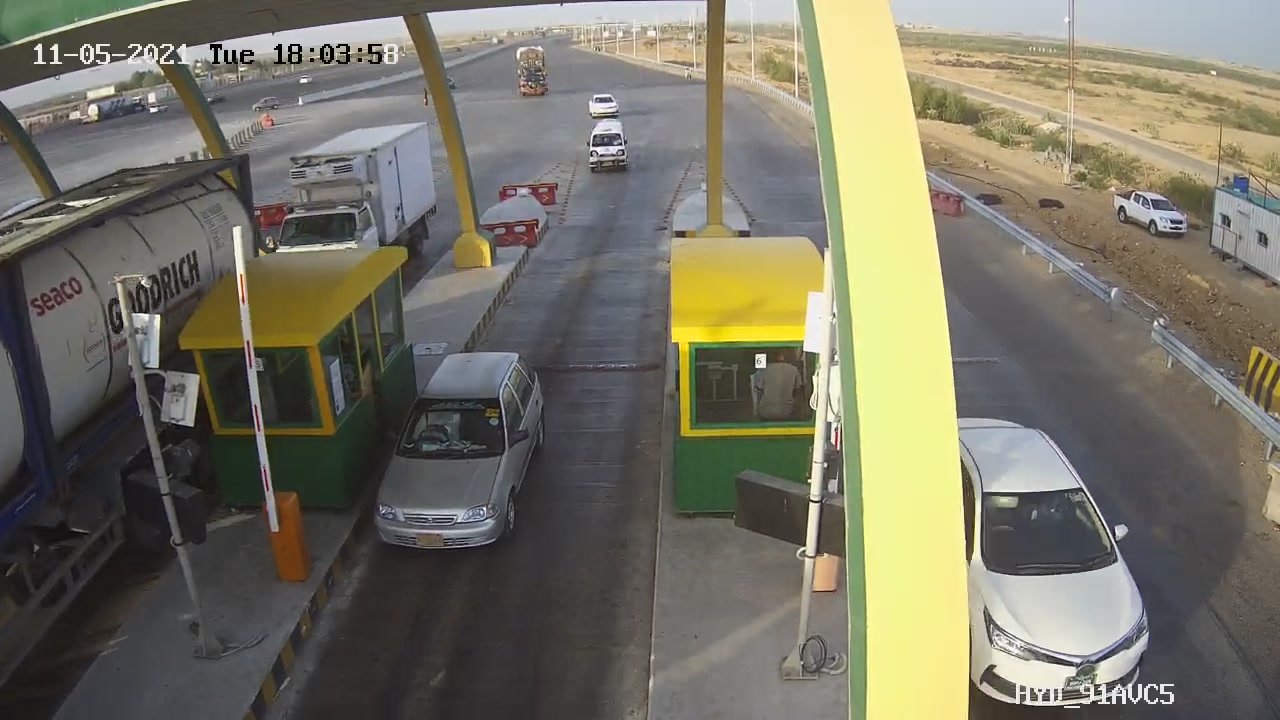F1: (352, 327, 569, 578)
